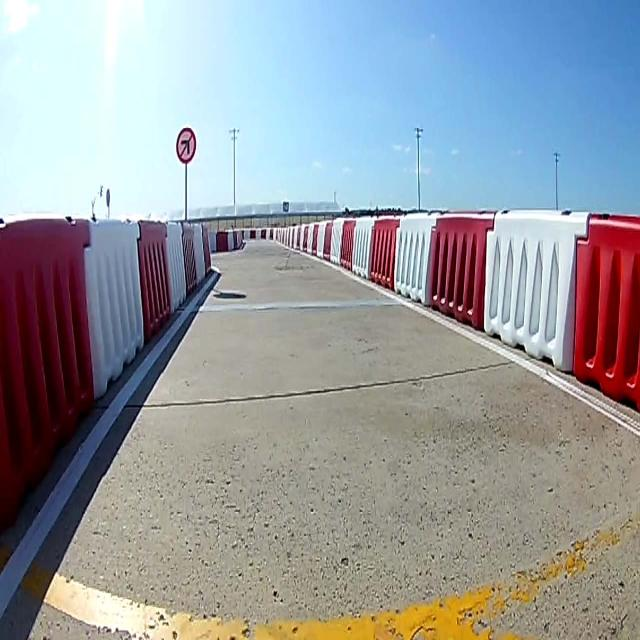soladonulmez: (174, 125, 197, 164)
